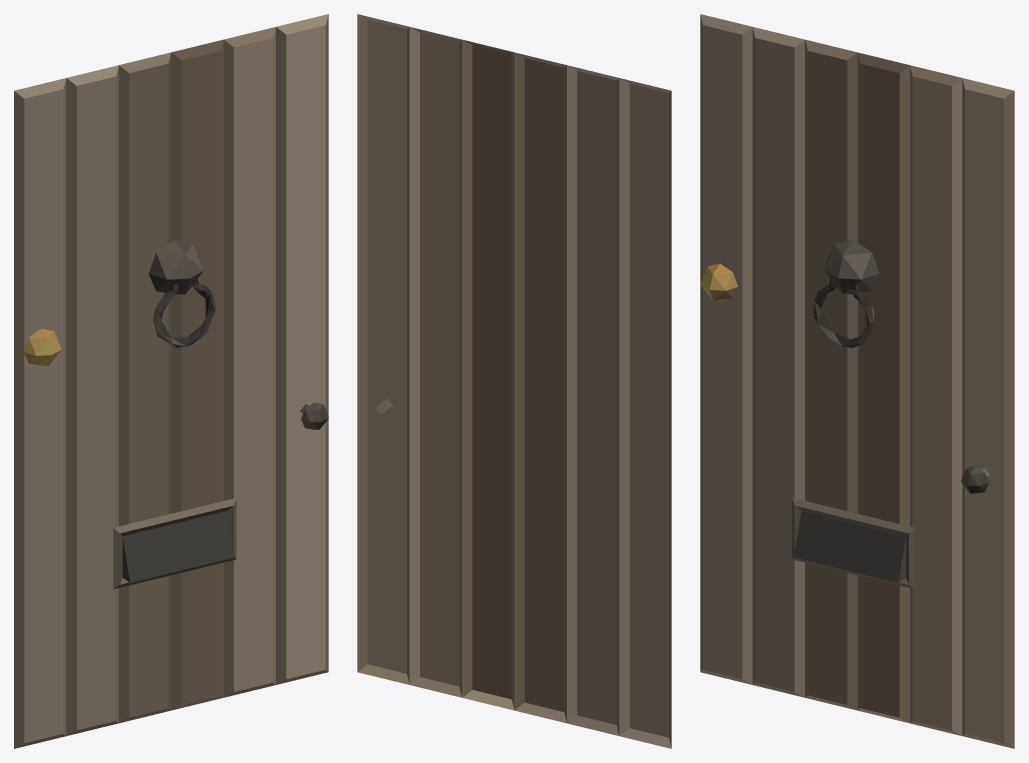
The model's file is Door_1.fbx.
The picture shows the model from 3 angles, left to right: view 1: azimuth 30°, elevation 25°; view 2: azimuth 150°, elevation 25°; view 3: azimuth 330°, elevation 25°; orthographic projection.
Parts seen in each view (by area): view 1: DoorA.003, DoorA.004, DoorA, DoorA.007, DoorA.006; view 2: DoorA.003, DoorA.006, DoorA.007; view 3: DoorA.003, DoorA.004, DoorA, DoorA.007, DoorA.006.
Boxes of the visible parts, x1,y1,x2,y2 form: DoorA.003: [14, 14, 328, 748]; DoorA.004: [113, 498, 236, 589]; DoorA: [23, 240, 328, 429]; DoorA.007: [14, 14, 328, 98]; DoorA.006: [15, 670, 327, 748]; DoorA.003: [357, 14, 671, 747]; DoorA.006: [357, 664, 671, 748]; DoorA.007: [358, 14, 671, 92]; DoorA.003: [700, 15, 1014, 748]; DoorA.004: [792, 498, 915, 589]; DoorA: [700, 240, 989, 493]; DoorA.007: [700, 14, 1014, 98]; DoorA.006: [700, 670, 1013, 748].
Size of the model in its own units: 120 by 240 by 15.22.
